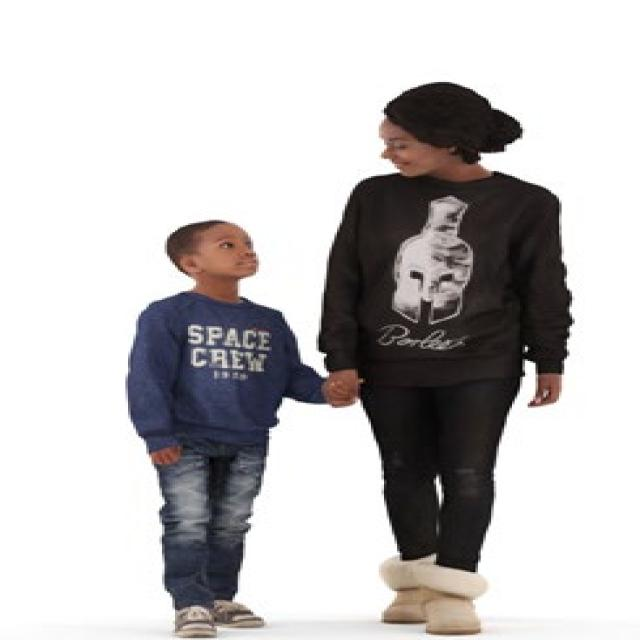standing: (314, 76, 580, 638), (119, 218, 320, 640)
